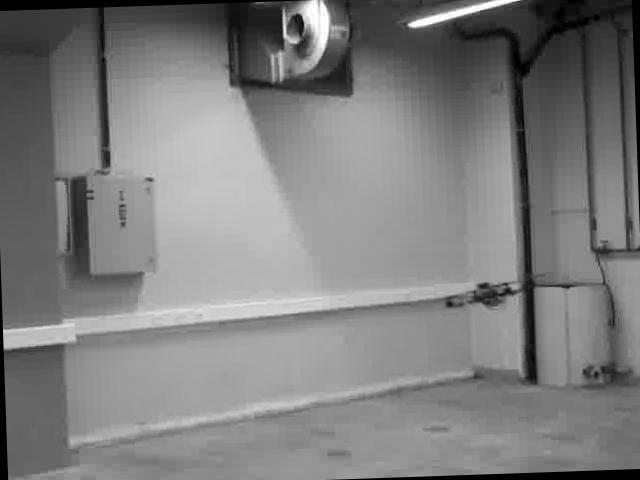drone: (444, 274, 532, 312)
